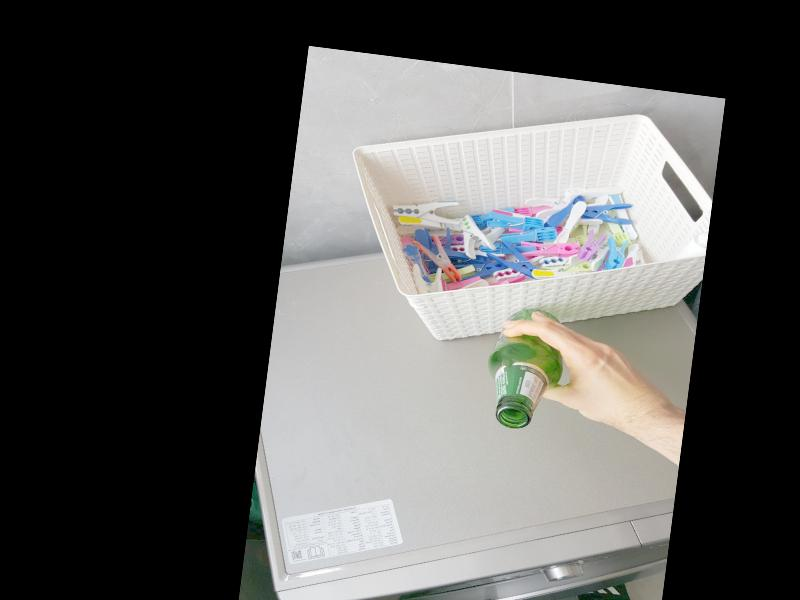Beer: (480, 304, 569, 433)
